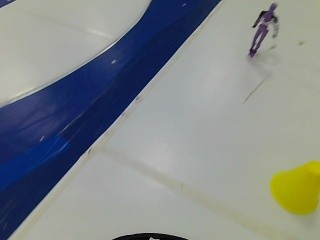cone: (265, 151, 318, 220)
pedestrian: (249, 3, 289, 57)
